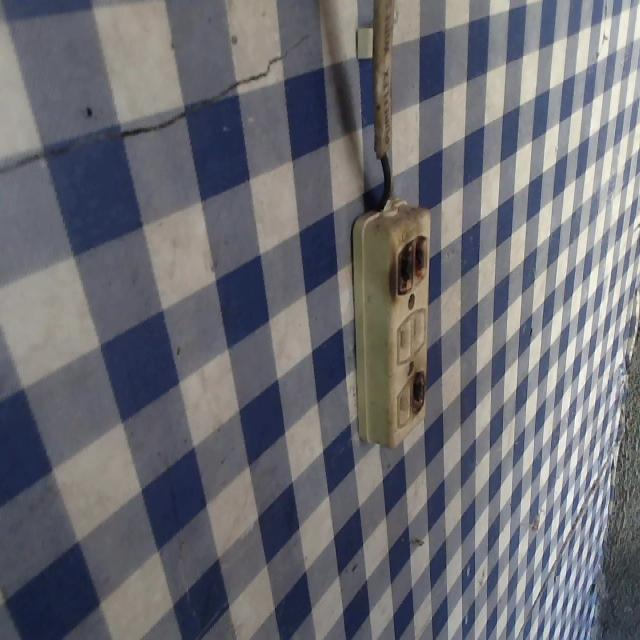-: (393, 230, 431, 294), (409, 365, 424, 411)
